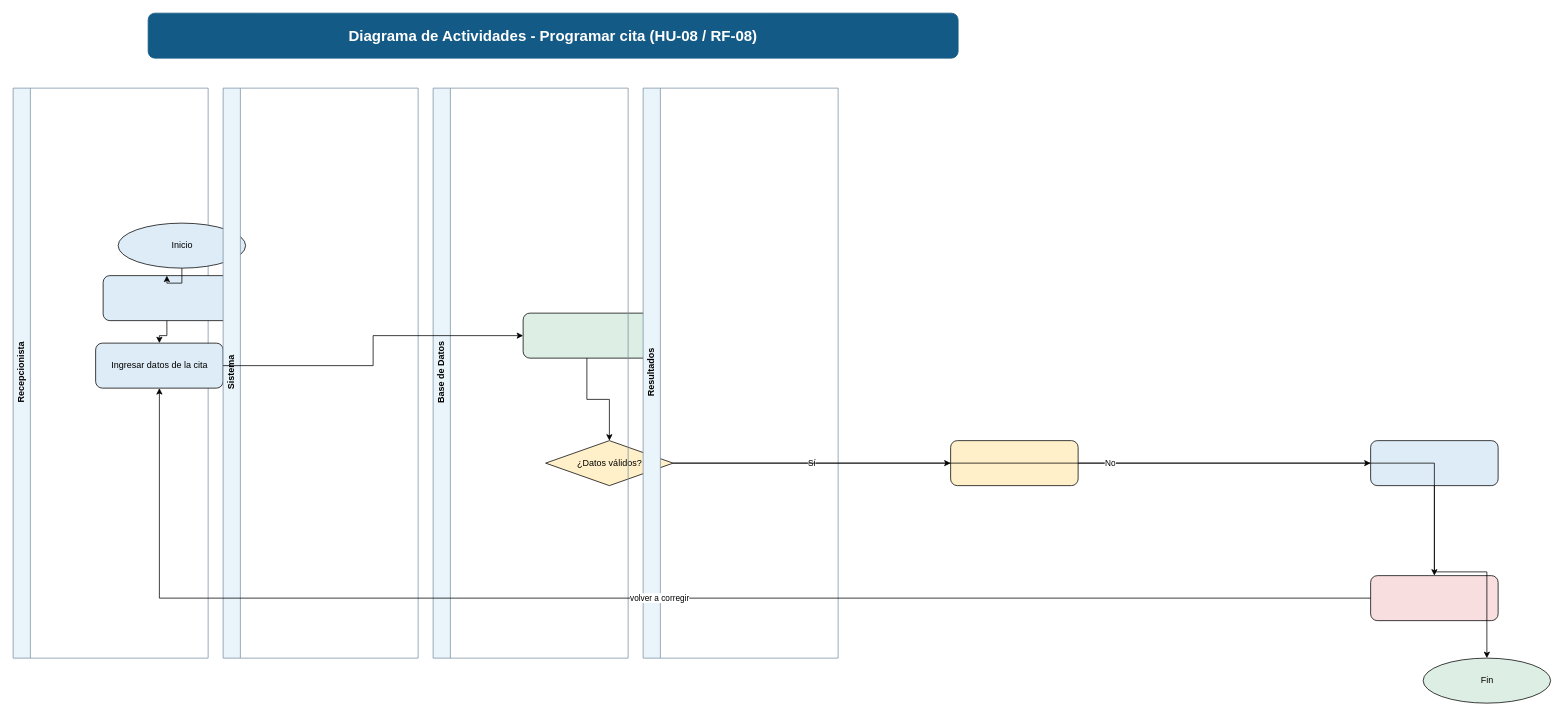
Image size: 1564x716. Some labels were removed from this diagram. The shapes that lost their labels are listed below. From the top down, each one's centre as x and y in pixels, then its label:
At point 166,298: "Seleccionar opción Programar cita".
At point 586,335: "Validar paciente, médico, disponibilidad y conflictos".
At point 1014,463: "Guardar cita".
At point 1434,463: "Cita programada correctamente".
At point 1434,598: "Mostrar mensaje de error".
